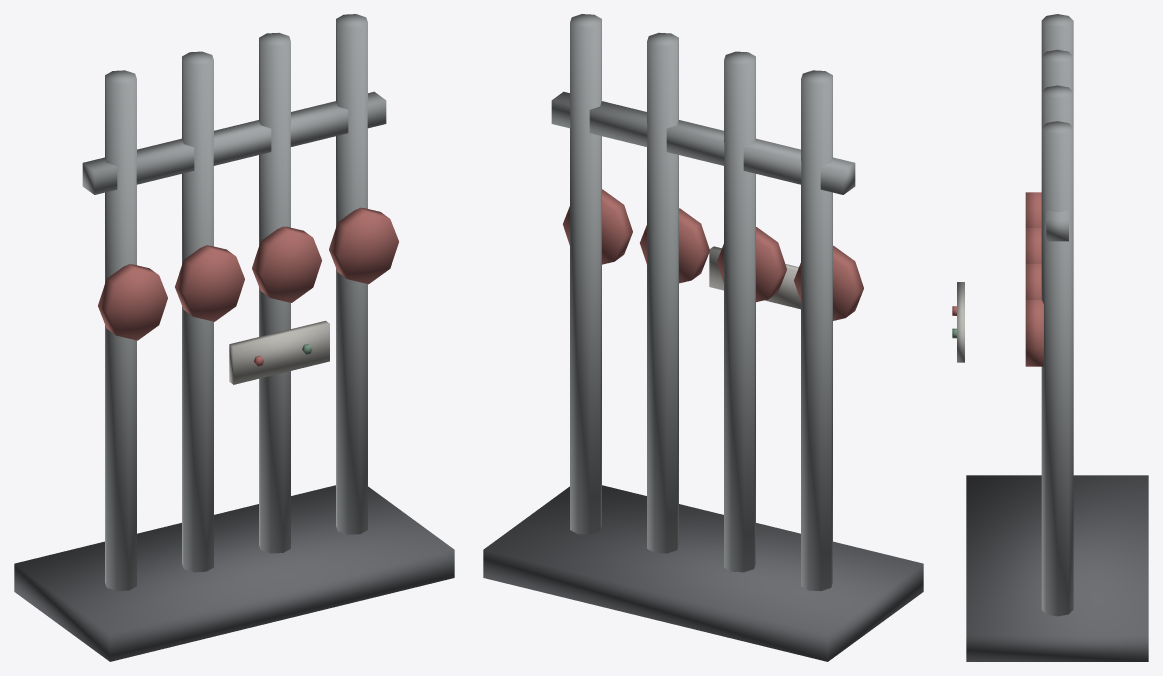
Rendered from steam_manifold__compact.glb.
3 views of the same model, side by side, from view 1: azimuth 30°, elevation 25°; view 2: azimuth 150°, elevation 25°; view 3: azimuth 270°, elevation 25° (orthographic). The views are drawn at different scales.
Parts seen in each view (by area): view 1: world; view 2: world; view 3: world.
Boxes of the visible parts, left/top/right/bottom form: world: left=14, top=14, right=454, bottom=661; world: left=483, top=14, right=923, bottom=661; world: left=952, top=14, right=1148, bottom=661.
Size of the model in its own units: 0.714 by 1.06 by 0.3707.
